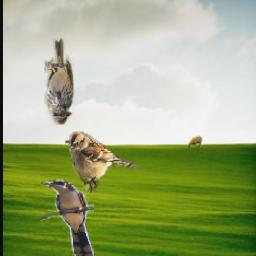Cuckoo: (41, 181, 94, 256)
Sparrow: (69, 131, 140, 193), (44, 39, 74, 126)
